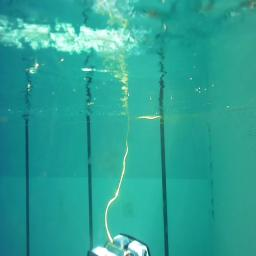front: (88, 233, 152, 256)
